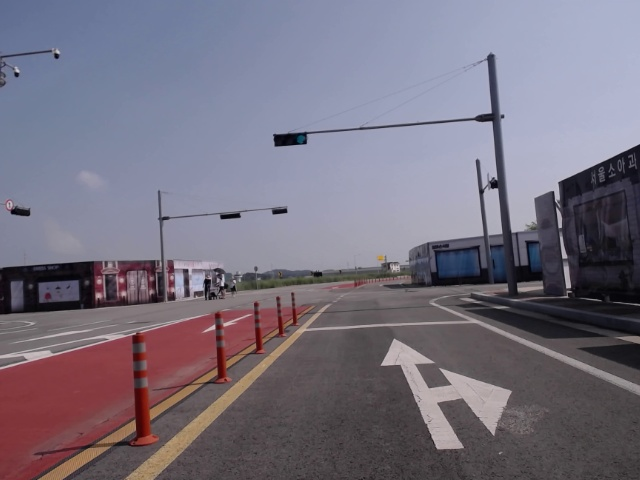green_3: (274, 132, 307, 147)
